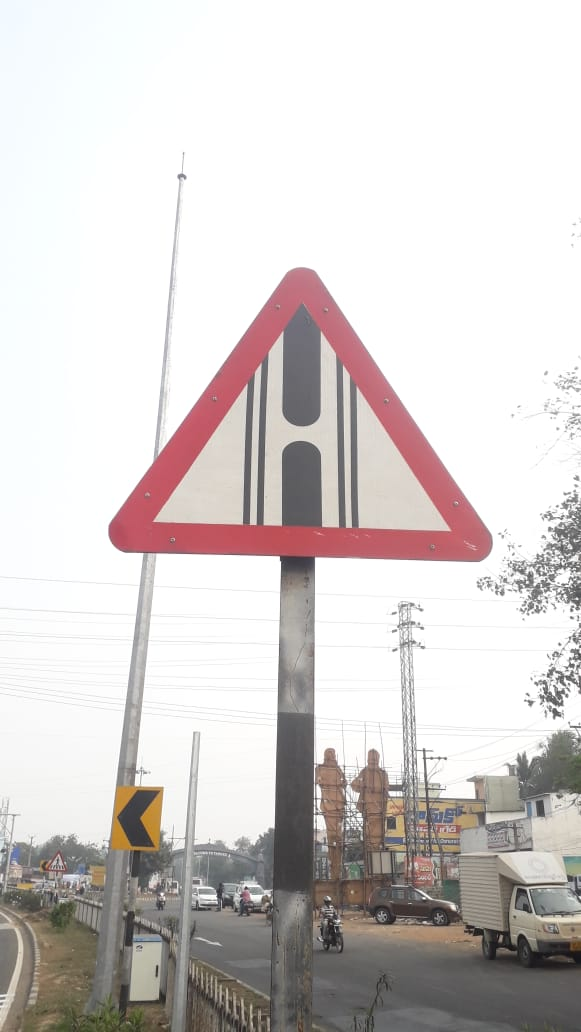highway go straight: (90, 257, 511, 591)
